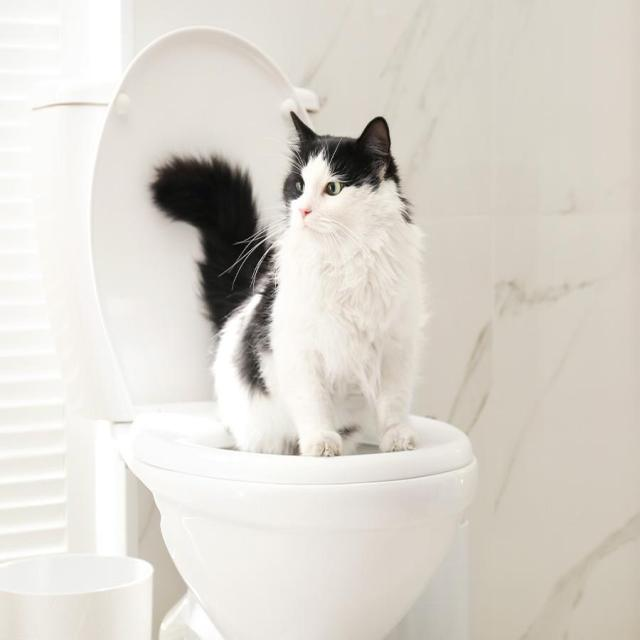Cat: (279, 101, 405, 247)
